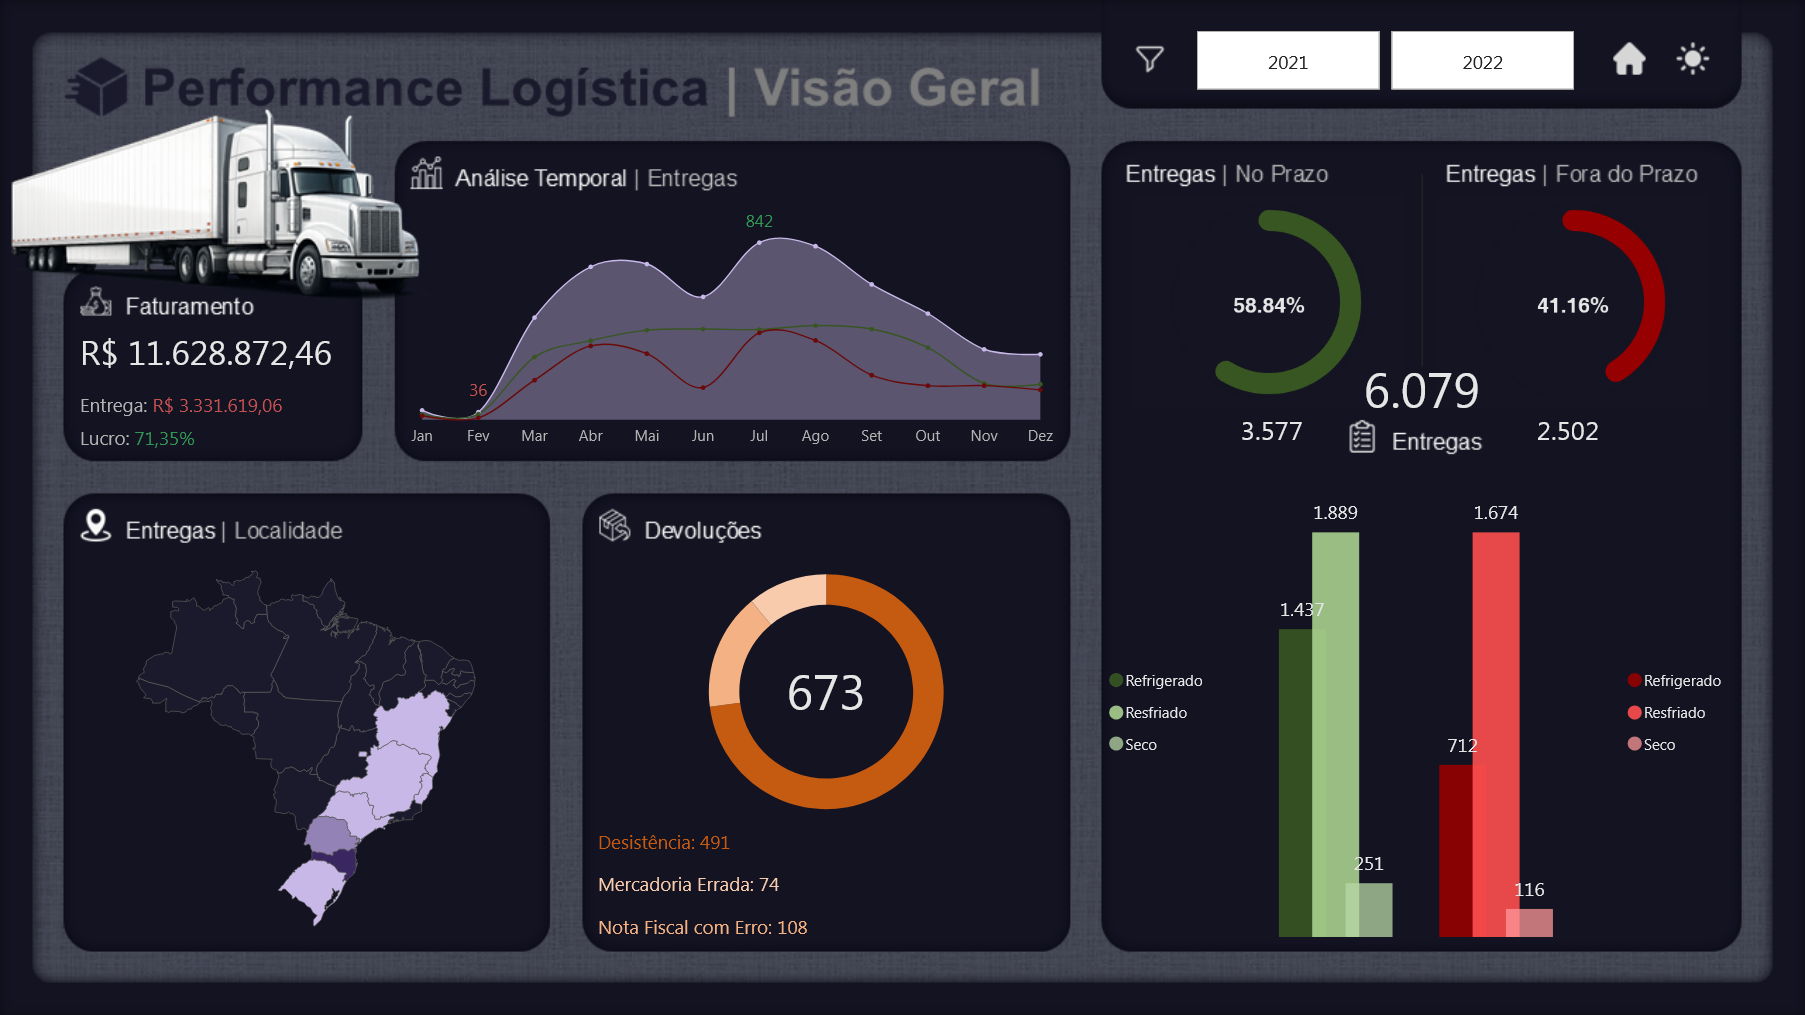

The dashboard page shown, as its layout file describes it:
{"tool":"powerbi","page":{"name":"visao-geral-dark","canvas":[1280,720],"ordinal":1},"visuals":[{"type":"card","fields":{"Values":["Medidas.Pedidos no Prazo"]},"box":[826,290,153.2,33.3],"z":2000},{"type":"areaChart","title":"Quantidade de Pedidos por Mês","fields":{"Category":["dCalendario.mes_abreviado"],"Y":["Tabela.Quantidade de Pedidos","Medidas.Pedidos no Prazo","Medidas.Pedidos Atrasados"]},"box":[279.2,135.7,478.4,190.6],"z":5000},{"type":"donutChart","fields":{"Category":["dimensao_motivo_devolucao.motivo_devolucao"],"Y":["Medidas.Quantidade de Pedidos"]},"box":[412,386.4,348,208.2],"z":6000},{"type":"payPalKPIDonutChart55A431AB15A540ED924ACD72ED8D259F","title":"Pedidos Atrasados","fields":{"myvalue":["Medidas.% Pedidos Atrasados"]},"box":[1016,134,200,160],"z":7000},{"type":"payPalKPIDonutChart55A431AB15A540ED924ACD72ED8D259F","title":"Pedidos no Prazo","fields":{"myvalue":["Medidas.% Pedidos no Prazo"]},"box":[800,134,200,160],"z":8000},{"type":"advancedSlicerVisual","fields":{"Values":["dCalendario.ano"]},"box":[844.7,18,276.1,50.2],"z":9000},{"type":"shapeMap","fields":{"Category":["dimensao_estados_brasileiros.uf"],"Value":["Medidas.pedidos"]},"box":[44,386,346,290],"z":10000},{"type":"card","fields":{"Values":["Medidas.Pedidos Atrasados"]},"box":[1036,290,153.2,33.3],"z":11000},{"type":"card","fields":{"Values":["Medidas.Quantidade de Pedidos"]},"box":[932,248,152.9,56],"z":12000},{"type":"clusteredColumnChart","fields":{"Category":["dimensao_status.status"],"Series":["dimensao_veiculos.tipo_bau"],"Y":["Medidas.Quantidade de Pedidos"]},"box":[780,338,260,334],"z":13000},{"type":"clusteredColumnChart","fields":{"Category":["dimensao_status.status"],"Series":["dimensao_veiculos.tipo_bau"],"Y":["Medidas.Quantidade de Pedidos"]},"box":[976,338,260,334],"z":14000},{"type":"card","fields":{"Values":["Medidas.Devoluções"]},"box":[509,462.2,153.5,55.6],"z":14001},{"type":"cardVisual","fields":{"Data":["Medidas.Desistência"]},"box":[412,574,216.1,38],"z":14002},{"type":"cardVisual","fields":{"Data":["Medidas.Mercadoria Errada"]},"box":[412,604,216.1,38],"z":14003},{"type":"cardVisual","fields":{"Data":["Medidas.Nota Fiscal com Erro"]},"box":[412,634,216.1,38],"z":14004},{"type":"cardVisual","fields":{"Data":["Medidas.Valor do Frete"]},"box":[44.3,216,214,114],"z":14005},{"type":"actionButton","box":[1136,22.7,40,40],"z":14006},{"type":"actionButton","box":[1181.2,22.7,40,40],"z":14007}]}

Visuals, with their boxes in screenshot pixels (x1, y1, x2, y2), scaled from the page's 1280x720 canvas onto the 1805x1015 screenshot:
card - Medidas.Pedidos no Prazo: detection(1165, 409, 1381, 456)
"Quantidade de Pedidos por Mês" areaChart: detection(394, 191, 1068, 460)
donutChart - dimensao_motivo_devolucao.motivo_devolucao x Medidas.Quantidade de Pedidos: detection(581, 545, 1072, 838)
"Pedidos Atrasados" payPalKPIDonutChart55A431AB15A540ED924ACD72ED8D259F: detection(1433, 189, 1715, 414)
"Pedidos no Prazo" payPalKPIDonutChart55A431AB15A540ED924ACD72ED8D259F: detection(1128, 189, 1410, 414)
advancedSlicerVisual - dCalendario.ano: detection(1191, 25, 1581, 96)
shapeMap - dimensao_estados_brasileiros.uf x Medidas.pedidos: detection(62, 544, 550, 953)
card - Medidas.Pedidos Atrasados: detection(1461, 409, 1677, 456)
card - Medidas.Quantidade de Pedidos: detection(1314, 350, 1530, 429)
clusteredColumnChart - dimensao_status.status x dimensao_veiculos.tipo_bau: detection(1100, 476, 1467, 947)
clusteredColumnChart - dimensao_status.status x dimensao_veiculos.tipo_bau: detection(1376, 476, 1743, 947)
card - Medidas.Devoluções: detection(718, 652, 934, 730)
cardVisual - Medidas.Desistência: detection(581, 809, 886, 863)
cardVisual - Medidas.Mercadoria Errada: detection(581, 851, 886, 905)
cardVisual - Medidas.Nota Fiscal com Erro: detection(581, 894, 886, 947)
cardVisual - Medidas.Valor do Frete: detection(62, 304, 364, 465)
actionButton: detection(1602, 32, 1658, 88)
actionButton: detection(1666, 32, 1722, 88)
